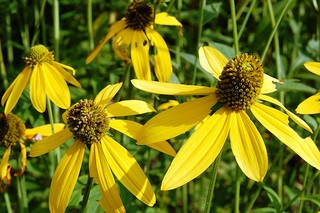flower: (131, 44, 320, 193), (17, 77, 180, 212), (0, 42, 82, 118)
